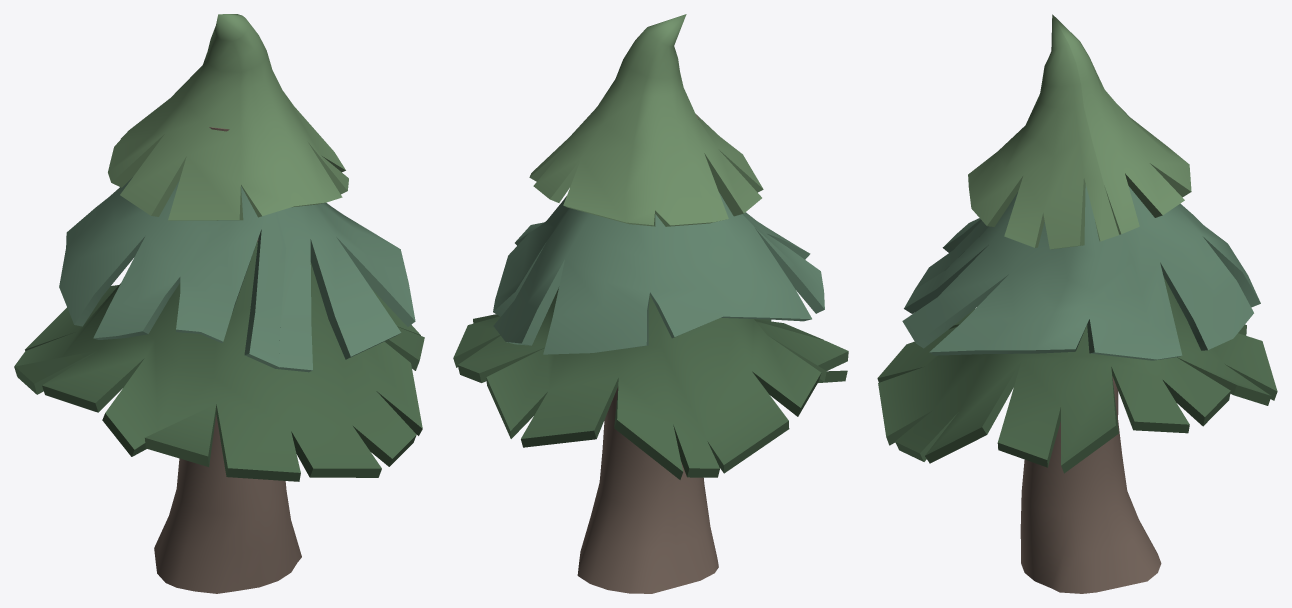
The model's file is Arbol3.fbx.
3 views of the same model, side by side, from view 1: azimuth 30°, elevation 25°; view 2: azimuth 150°, elevation 25°; view 3: azimuth 270°, elevation 25° (orthographic). The views are drawn at different scales.
Parts seen in each view (by area): view 1: Hojas1, Hojas2, Hojas3, Tronco; view 2: Hojas1, Hojas2, Hojas3, Tronco; view 3: Hojas2, Hojas1, Hojas3, Tronco.
Part boxes in pixels (x1,y1,x2,y2): Hojas1: (14, 241, 424, 481); Hojas2: (59, 177, 415, 372); Hojas3: (108, 14, 348, 220); Tronco: (154, 127, 301, 593); Hojas1: (453, 287, 848, 479); Hojas2: (493, 192, 824, 354); Hojas3: (529, 14, 763, 226); Tronco: (577, 114, 718, 593); Hojas2: (902, 184, 1260, 360); Hojas1: (877, 276, 1277, 473); Hojas3: (968, 14, 1191, 249); Tronco: (1020, 376, 1161, 593).
Size of the model in its own units: 4.07 by 6.2 by 4.18.
